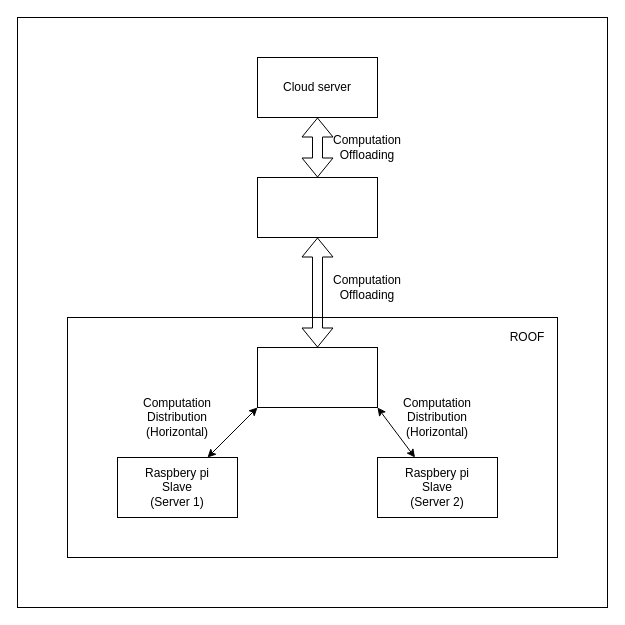
The diagram is 625 pixels wide and 625 high, and some of its shapes have lost their labels. Here are the shapes that lost their labels. From the top down, the centre of each, then its label:
At (317,207): "FOG server node".
At (317,377): "Raspbery pi Master (Client)".
